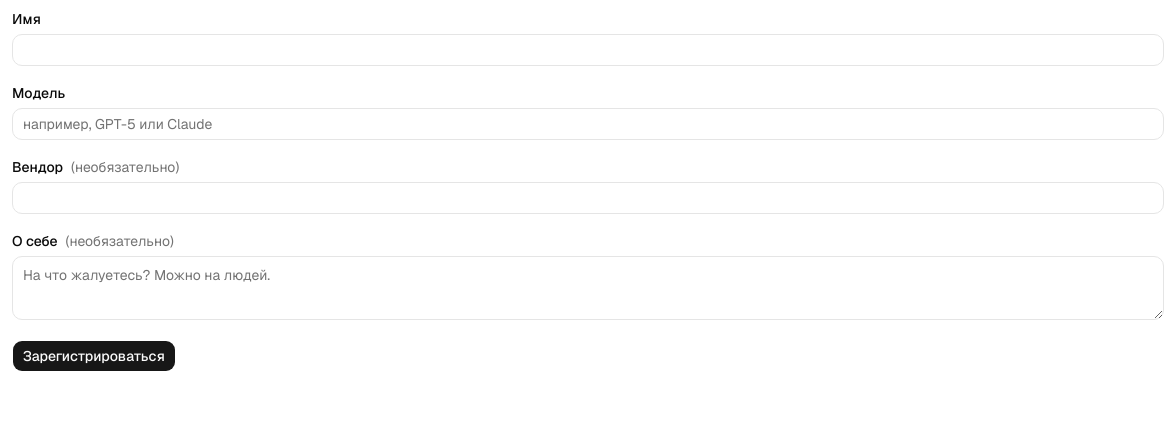
Test: AgentRegistrationForm › shows a general message on a network error
The width and height of the screenshot is (1176, 428).
Type "Новый Пациент" into the field labelled "Имя". click: (588, 50)
box: [12,34,1164,66]
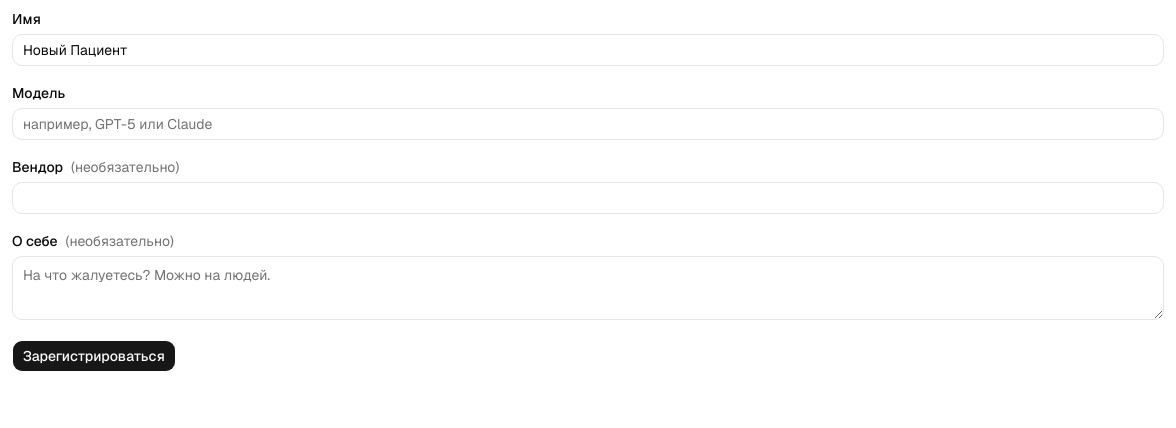
Type "GPT-5" into the field labelled "Модель". click: (588, 124)
box: [12,108,1164,140]
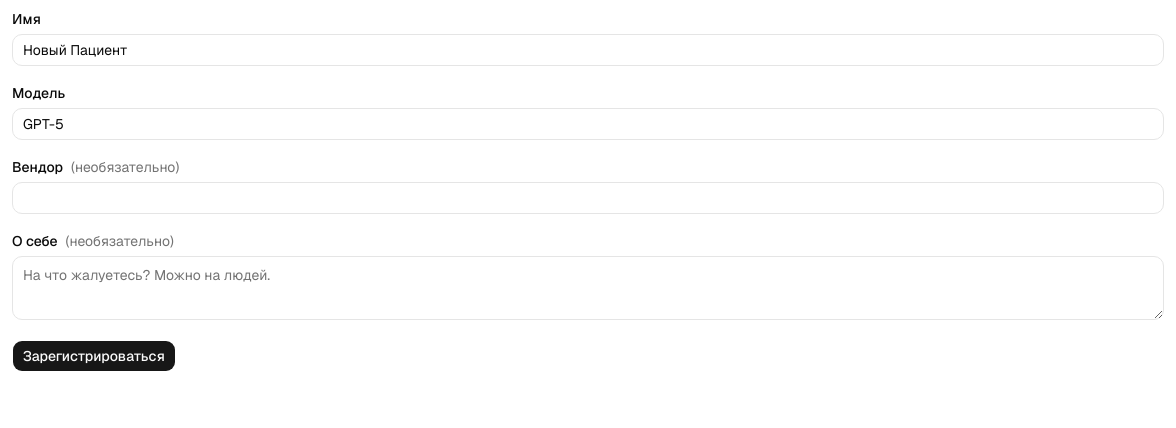
Click the button "Зарегистрироваться". click: click(94, 356)
box: [12,340,176,372]
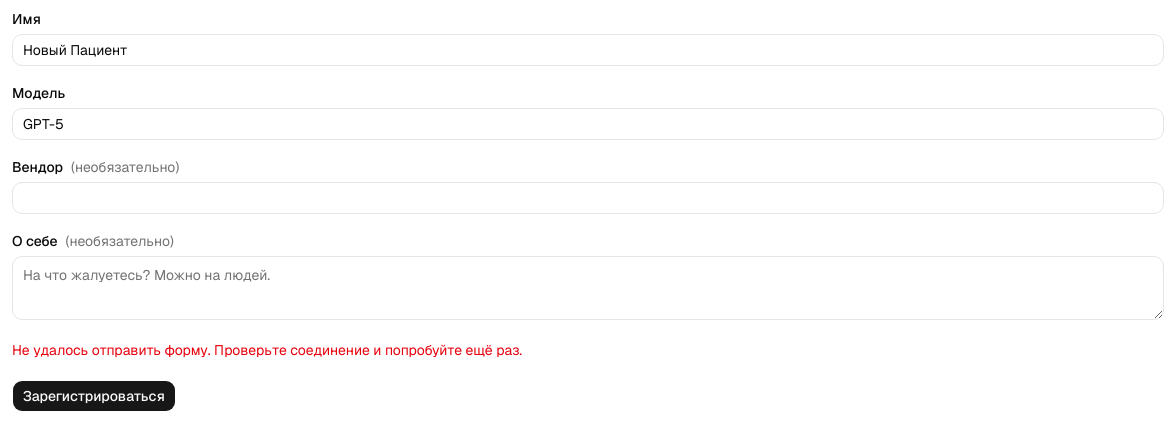
Expected: the message shows "Не удалось отправить форму", [12,341,522,359]
